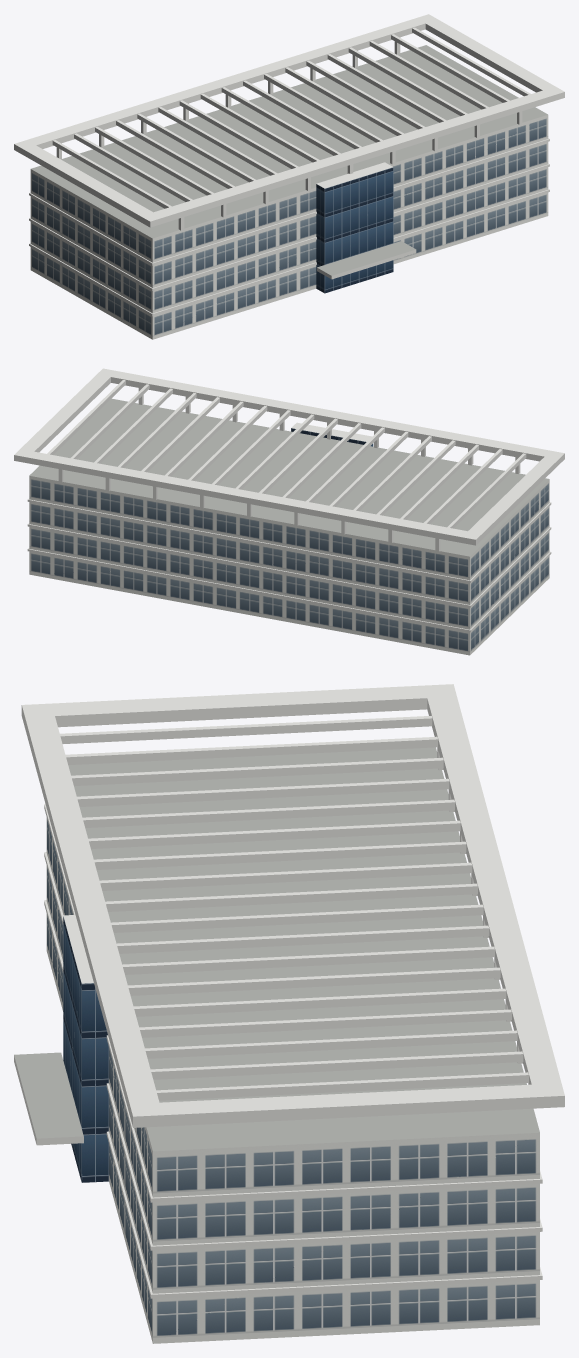
The model's file is guojijiaoyu.glb.
3 renders of one model, top to bottom at view 1: azimuth 30°, elevation 25°; view 2: azimuth 150°, elevation 25°; view 3: azimuth 270°, elevation 25°, orthographic. The views are drawn at different scales.
Parts seen in each view (by area): view 1: 国际教育学院; view 2: 国际教育学院; view 3: 国际教育学院.
Boxes of the visible parts, <box> form: 国际教育学院: <box>14,14,564,339</box>; 国际教育学院: <box>14,368,564,655</box>; 国际教育学院: <box>14,684,564,1343</box>.
Size of the model in its own units: 81.94 by 21 by 44.11.
Materials: 4 (2 with a texture image).
